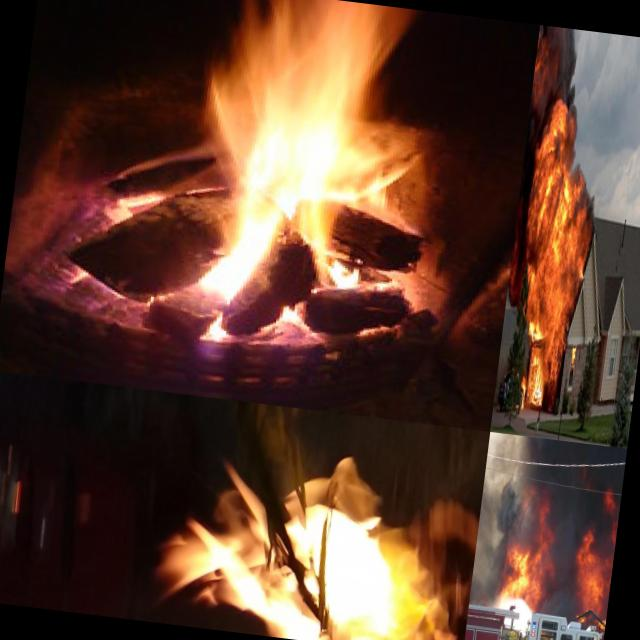fire: (133, 0, 450, 328), (110, 436, 483, 640), (513, 107, 601, 355), (568, 526, 616, 620), (496, 525, 548, 607), (598, 484, 622, 530), (525, 358, 547, 404), (517, 373, 528, 411), (595, 619, 605, 640), (570, 348, 577, 367), (538, 635, 552, 640)
smoke: (468, 432, 526, 610), (504, 434, 590, 552), (530, 24, 592, 110)
